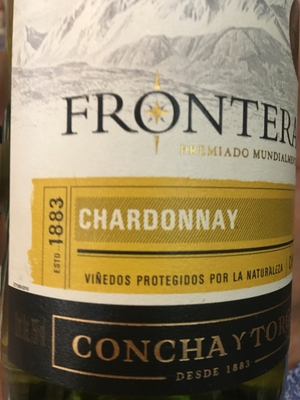frontera chardonnay: (8, 1, 293, 400)
